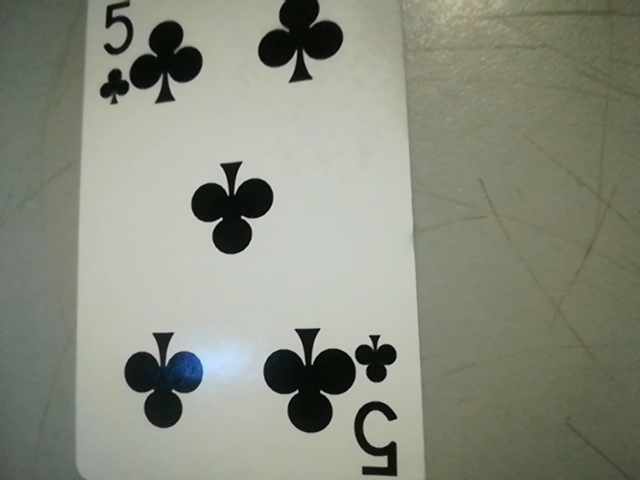mh 5: (344, 320, 416, 480)
